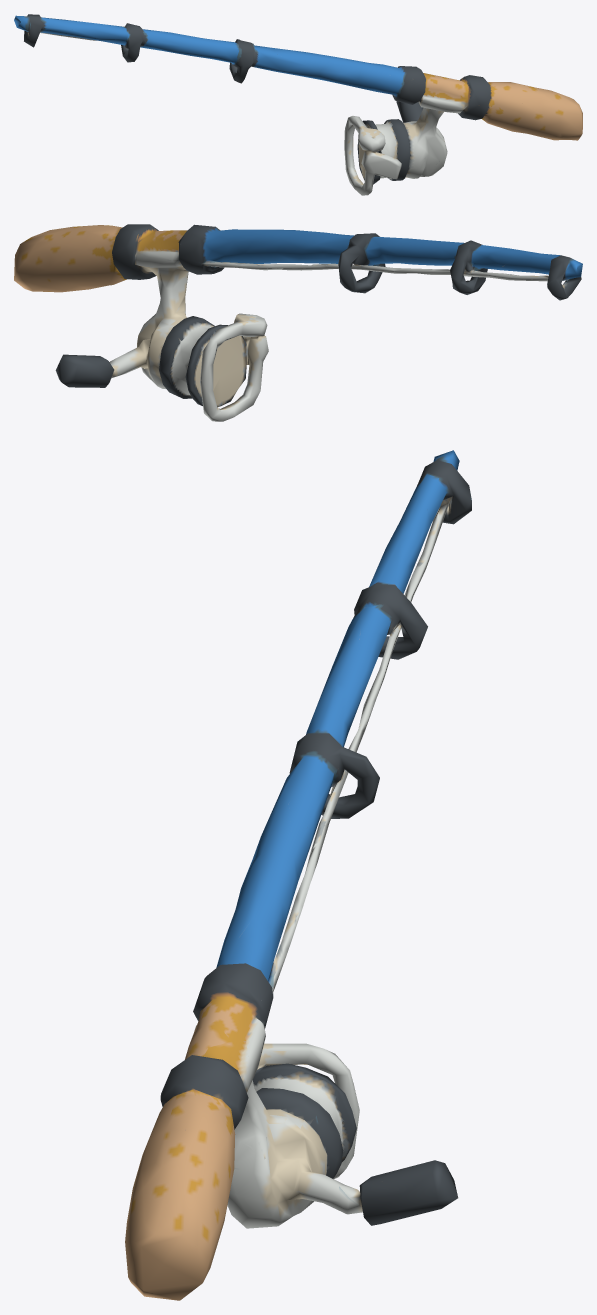
Rendered from rod-2.glb.
3 views of the same model, one above another, from view 1: azimuth 30°, elevation 25°; view 2: azimuth 150°, elevation 25°; view 3: azimuth 270°, elevation 25° (orthographic). The views are drawn at different scales.
Parts seen in each view (by area): view 1: tripo_node_61c38f8d-4b82-4e21-80f1-8ae01a004a89; view 2: tripo_node_61c38f8d-4b82-4e21-80f1-8ae01a004a89; view 3: tripo_node_61c38f8d-4b82-4e21-80f1-8ae01a004a89.
Boxes of the visible parts, left/top/right/bottom form: tripo_node_61c38f8d-4b82-4e21-80f1-8ae01a004a89: left=14, top=14, right=582, bottom=195; tripo_node_61c38f8d-4b82-4e21-80f1-8ae01a004a89: left=14, top=224, right=582, bottom=421; tripo_node_61c38f8d-4b82-4e21-80f1-8ae01a004a89: left=125, top=450, right=471, bottom=1300.
Bounding box in the file's own units: 1 × 0.4253 × 0.3057.
Materials: 1 (1 with a texture image).
